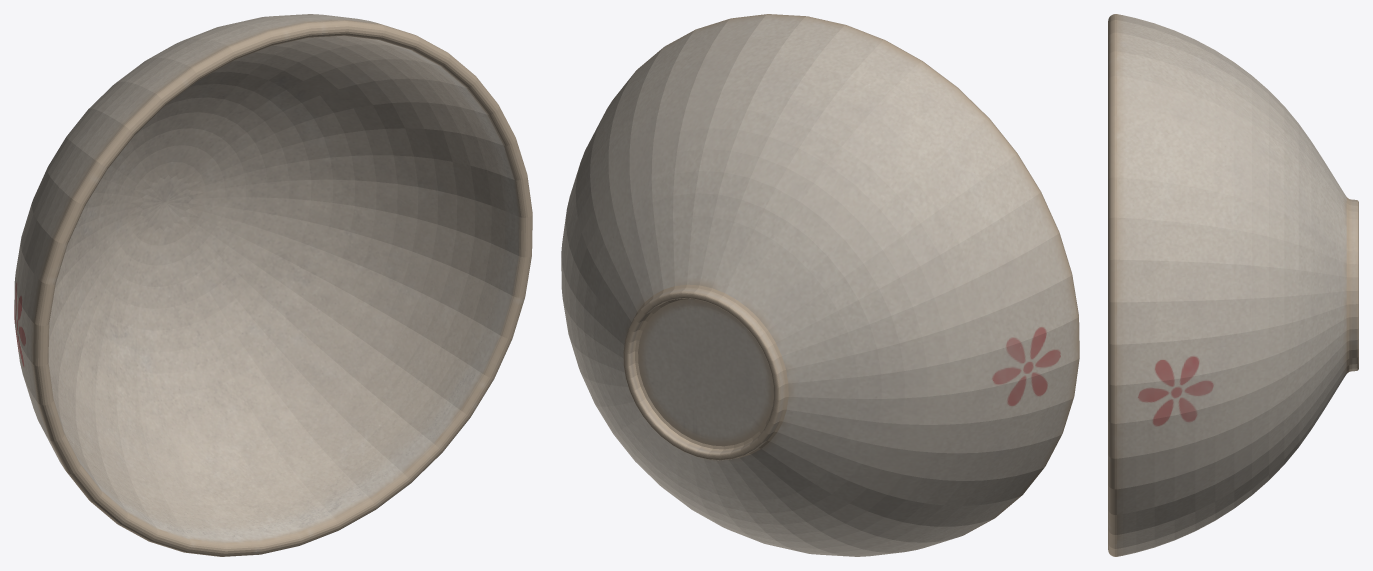
3 views of the same model, side by side, from view 1: azimuth 30°, elevation 25°; view 2: azimuth 150°, elevation 25°; view 3: azimuth 270°, elevation 25° (orthographic). The views are drawn at different scales.
Parts seen in each view (by area): view 1: geometry_0; view 2: geometry_0; view 3: geometry_0.
Boxes of the visible parts, left/top/right/bottom form: geometry_0: left=14, top=14, right=532, bottom=556; geometry_0: left=561, top=14, right=1079, bottom=556; geometry_0: left=1108, top=14, right=1358, bottom=556.
Bounding box in the file's own units: 0.1299 × 0.1299 × 0.06.
Materials: 1 (1 with a texture image).
